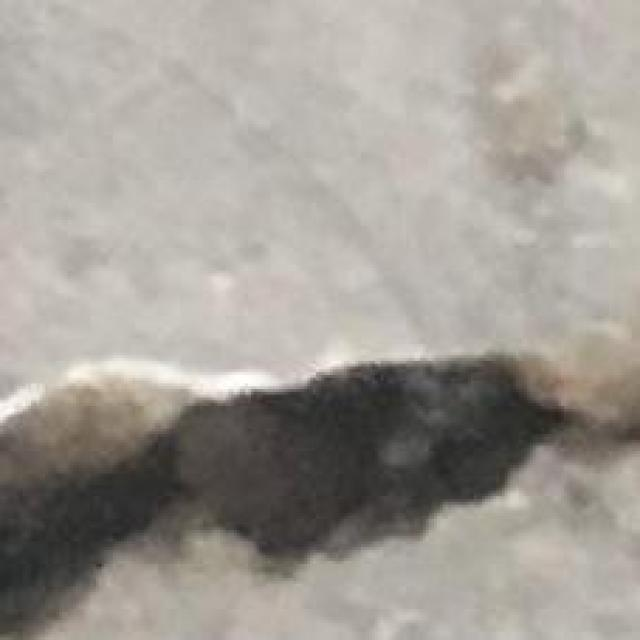Crack: (0, 324, 634, 611)
